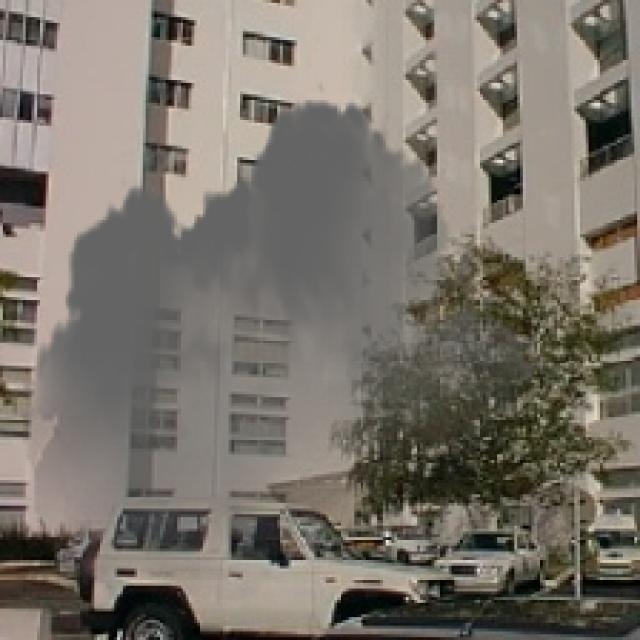Smoke: (22, 80, 548, 623)
